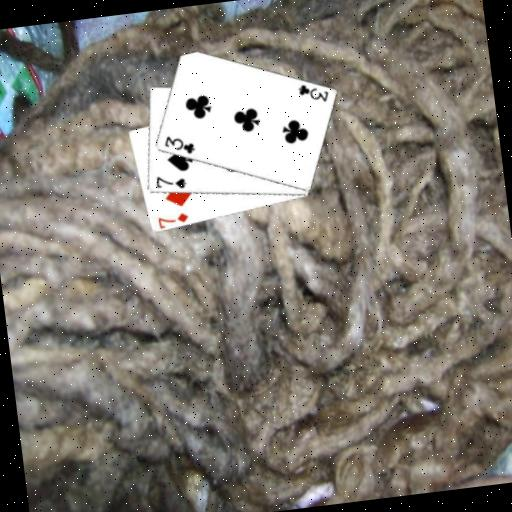3C: (160, 130, 197, 159), (294, 79, 331, 107)
7D: (154, 209, 191, 230)
7S: (152, 170, 189, 193)
